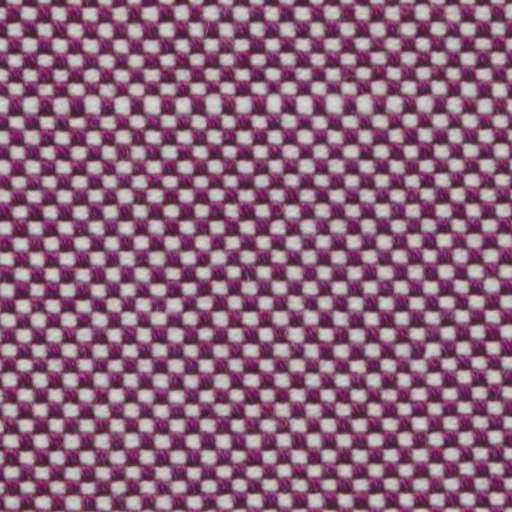TuoSha: (17, 67, 496, 135)
